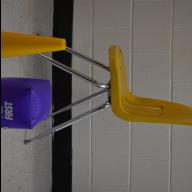cone: (0, 31, 65, 58)
cube: (0, 77, 52, 130)
